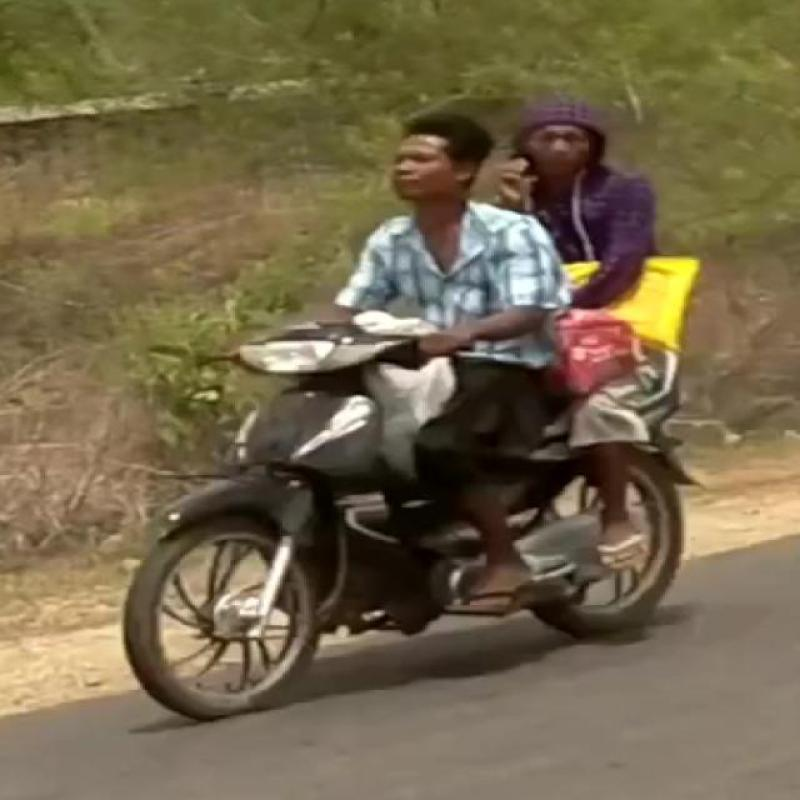nohelmet: (344, 83, 491, 221)
